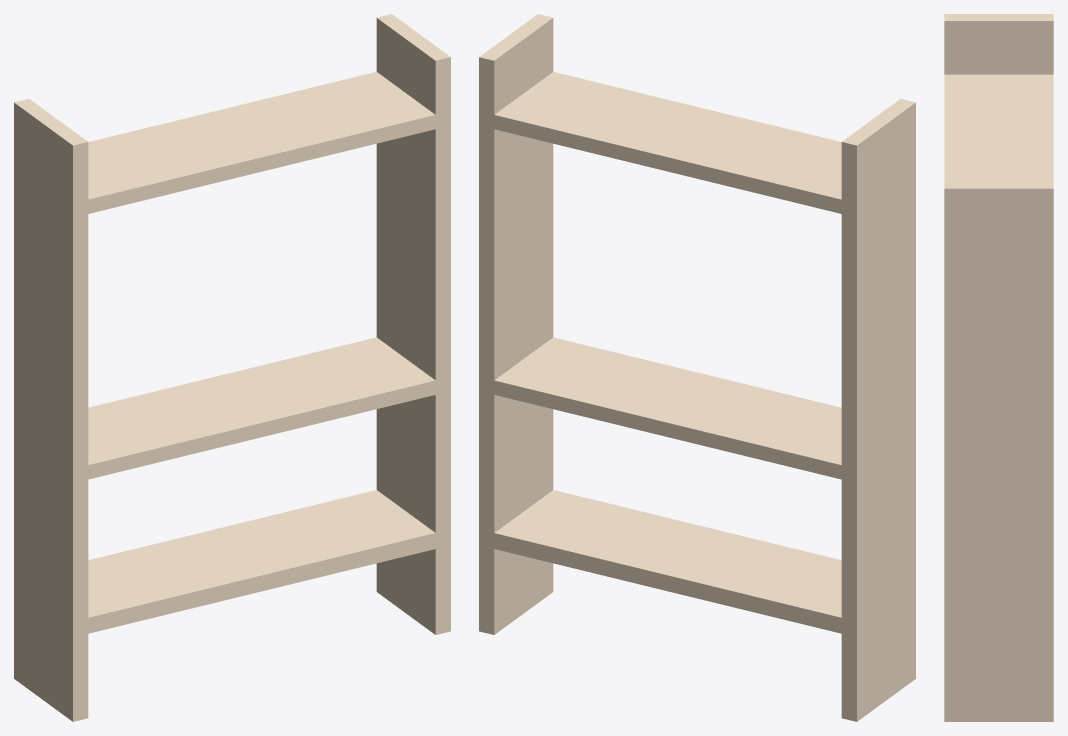
3 views of the same model, side by side, from view 1: azimuth 30°, elevation 25°; view 2: azimuth 150°, elevation 25°; view 3: azimuth 270°, elevation 25° (orthographic). The views are drawn at different scales.
Parts seen in each view (by area): view 1: Wall__5_, Wall__4_, Wall_8__2_, Wall_8__6_, Wall_8__25_; view 2: Wall__5_, Wall__4_, Wall_8__2_, Wall_8__6_, Wall_8__25_; view 3: Wall__4_, Wall_8__6_, Wall__5_.
Boxes of the visible parts, x1=… form: Wall__5_: x1=14, y1=99, x2=88, y2=721; Wall__4_: x1=376, y1=14, x2=450, y2=634; Wall_8__2_: x1=80, y1=490, x2=446, y2=635; Wall_8__6_: x1=75, y1=72, x2=448, y2=216; Wall_8__25_: x1=77, y1=337, x2=442, y2=481; Wall__5_: x1=841, y1=99, x2=915, y2=721; Wall__4_: x1=479, y1=14, x2=553, y2=634; Wall_8__2_: x1=483, y1=490, x2=849, y2=635; Wall_8__6_: x1=481, y1=72, x2=854, y2=216; Wall_8__25_: x1=487, y1=337, x2=852, y2=481; Wall__4_: x1=944, y1=181, x2=1053, y2=721; Wall_8__6_: x1=944, y1=74, x2=1053, y2=181; Wall__5_: x1=944, y1=14, x2=1053, y2=74.
Bounding box in the file's own units: 397 × 580 × 107.
